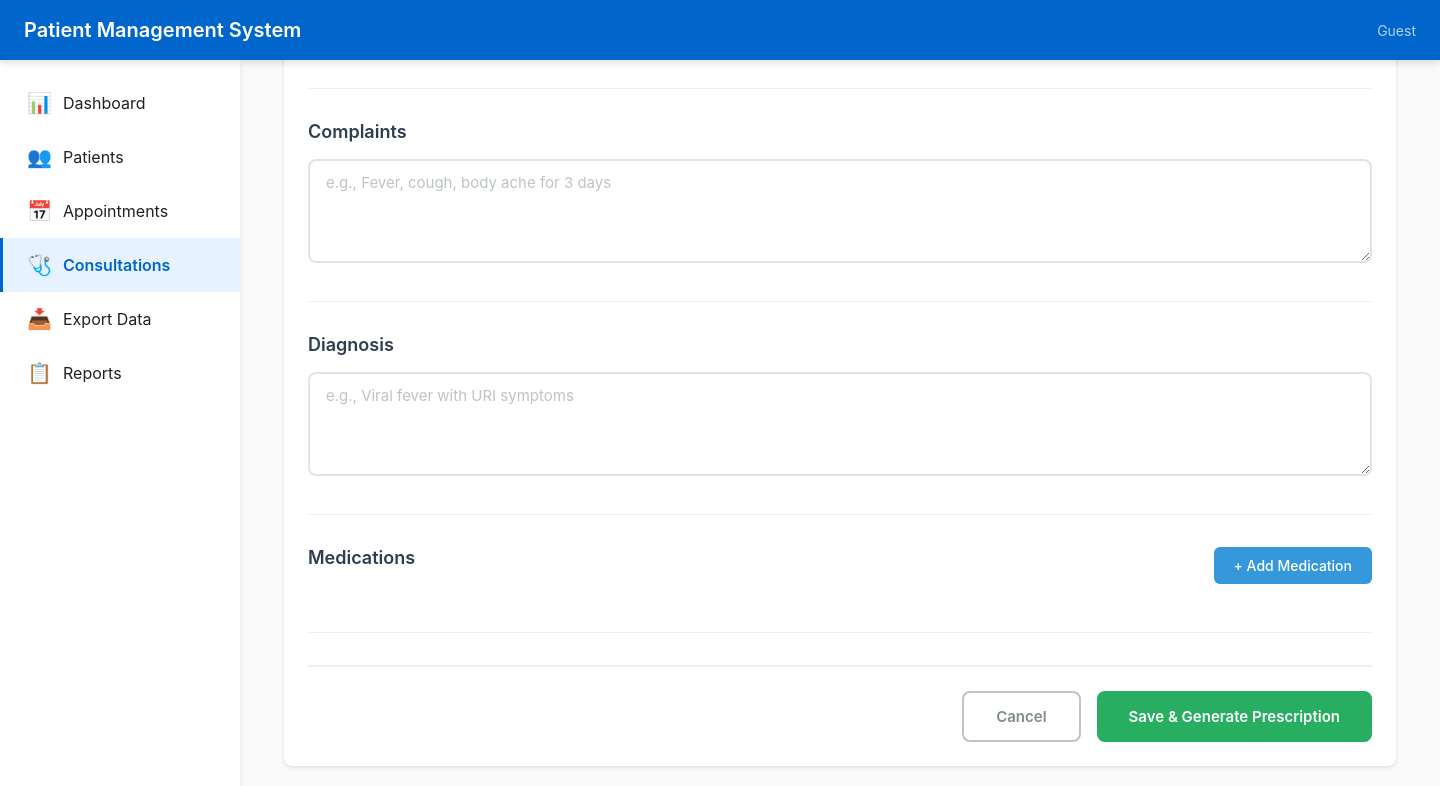
Test: ConsultationPage › should add medication to list
(page scrolled)
Note: Open medication form
Click the button "+ Add Medication": (1293, 565) [1214,547,1372,584]
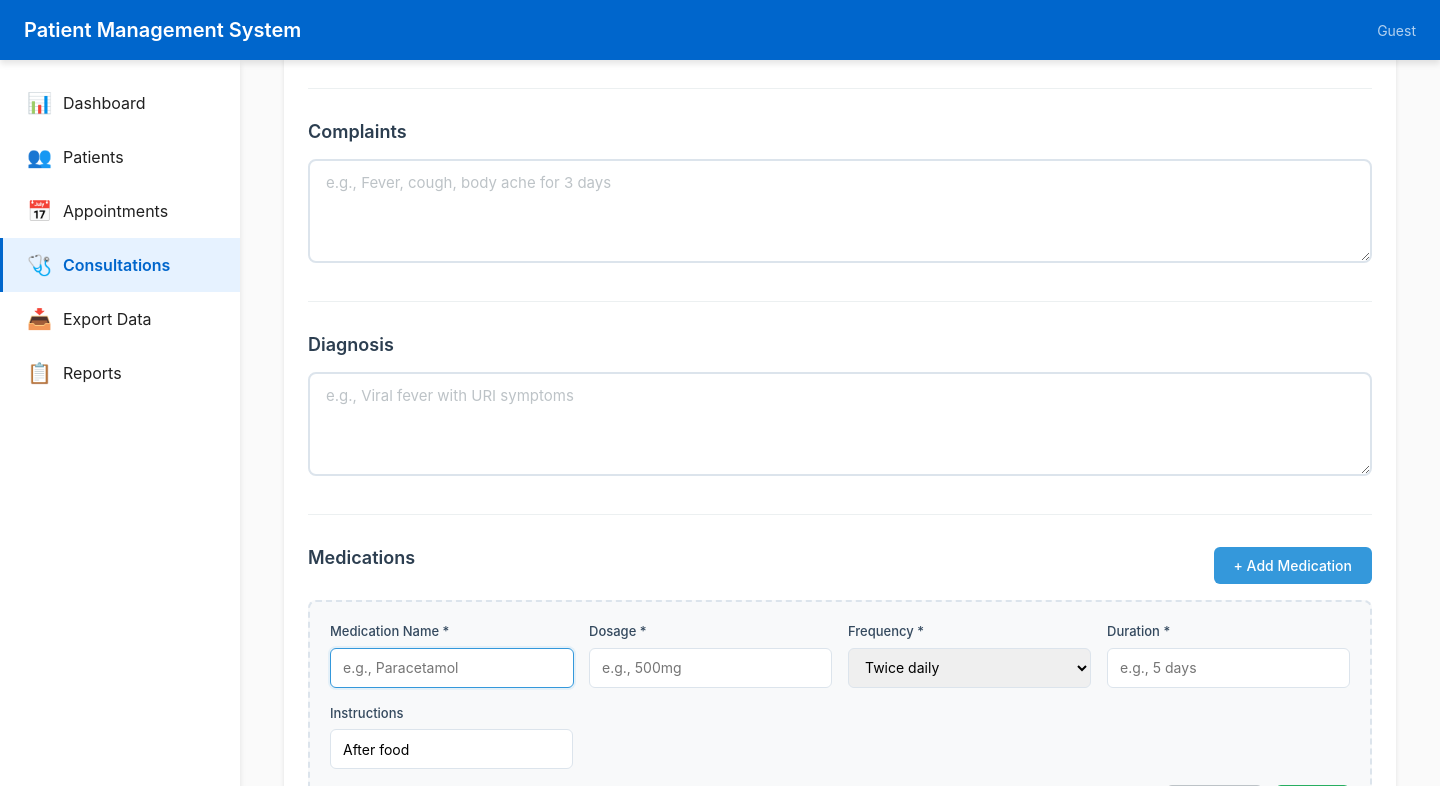
In the field with placeholder "e.g., Paracetamol": (452, 668) [330,648,574,688], type "Paracetamol"
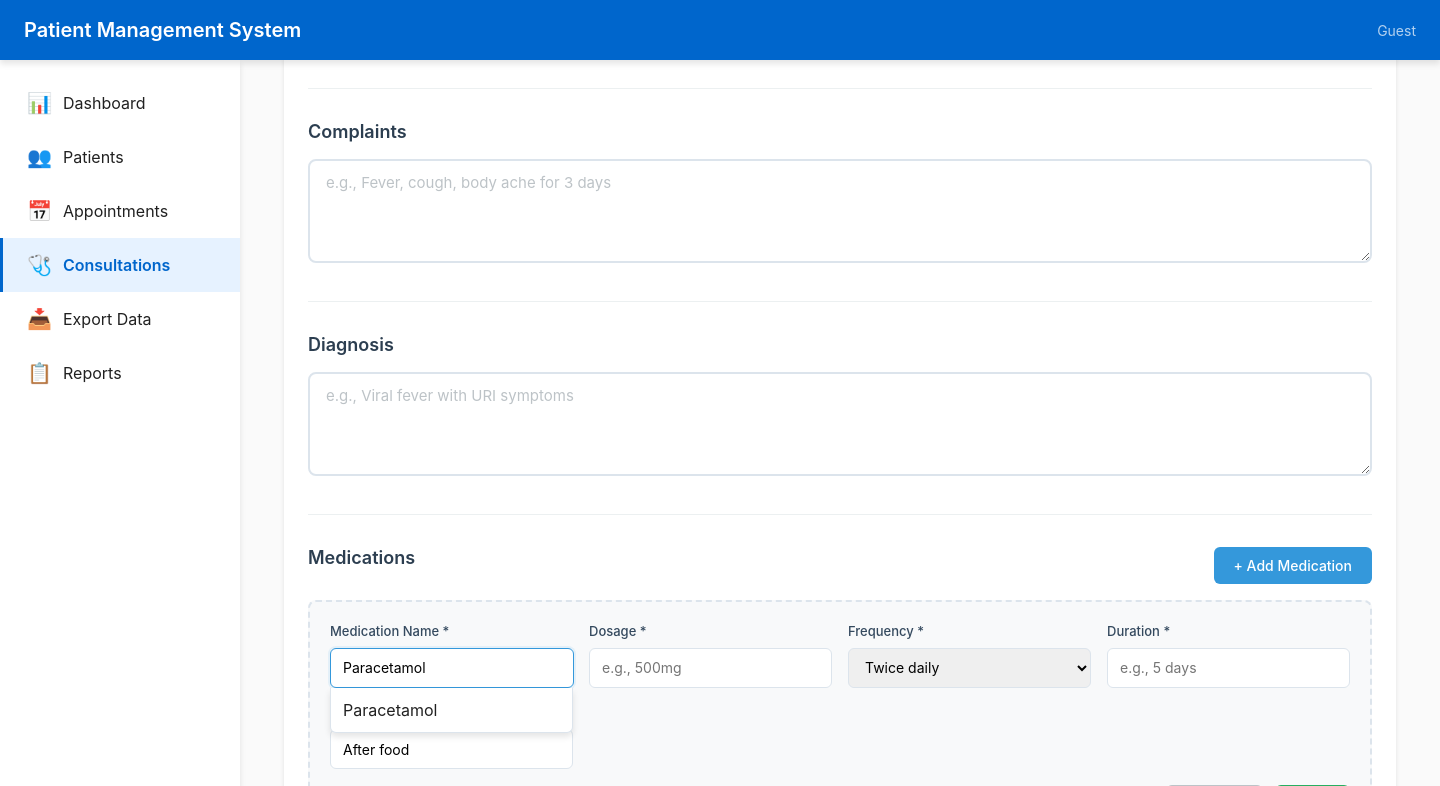
In the field with placeholder "e.g., 500mg": (710, 668) [589,648,832,688], type "500mg"
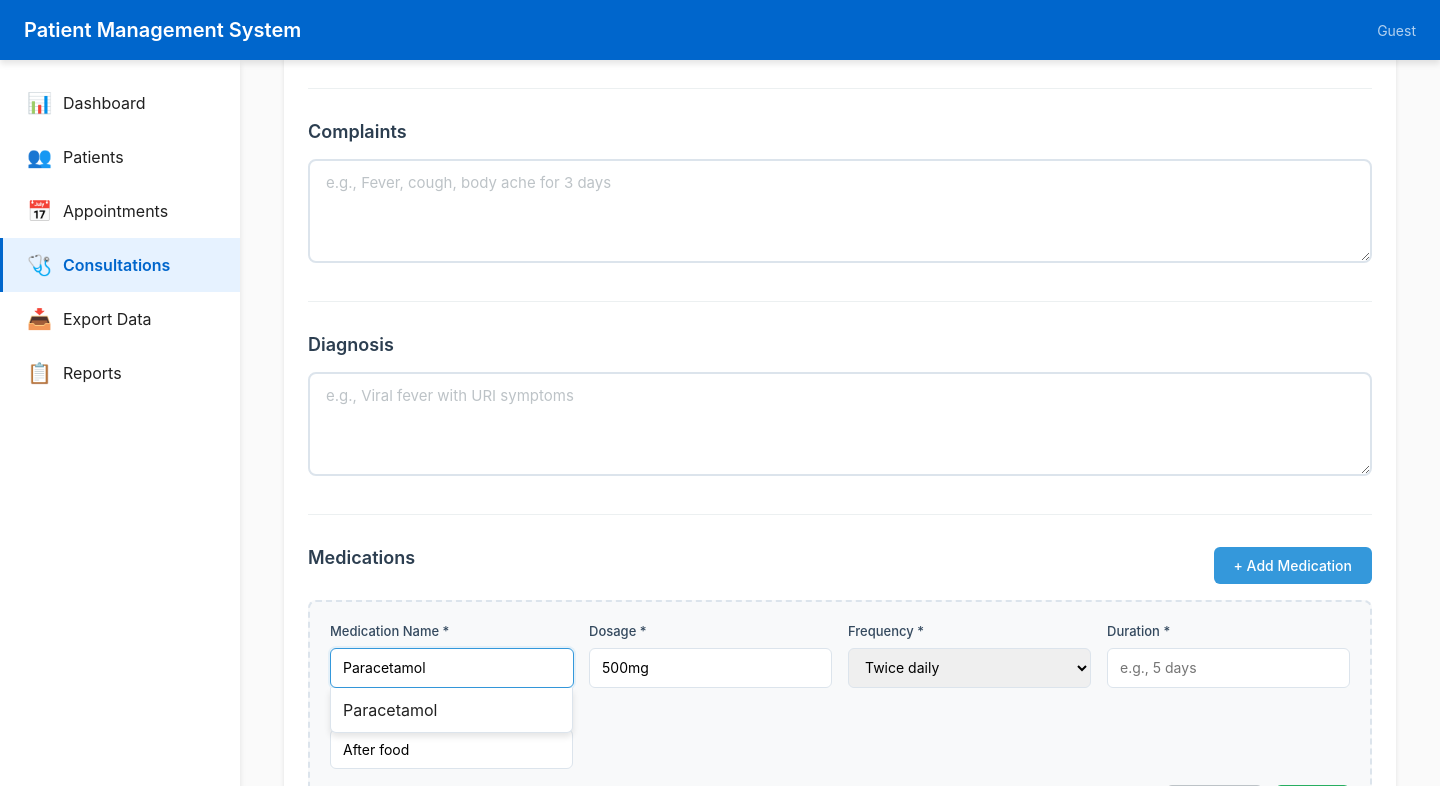
In the field with placeholder "e.g., 5 days": (1228, 668) [1107,648,1350,688], type "5 days"
(page scrolled)
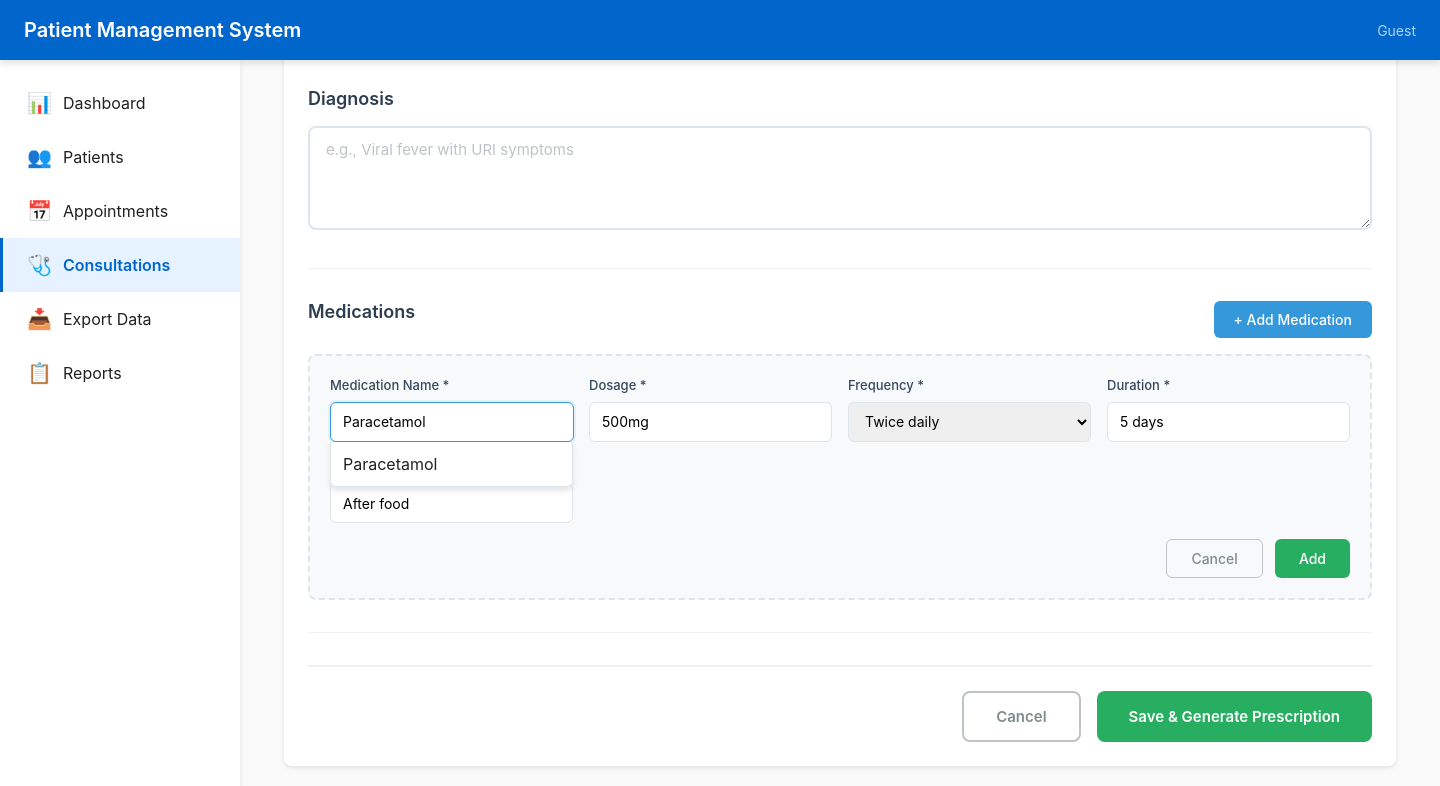
Note: Submit medication
Click the button "Add": (1312, 559) [1275,539,1350,578]
(page scrolled)
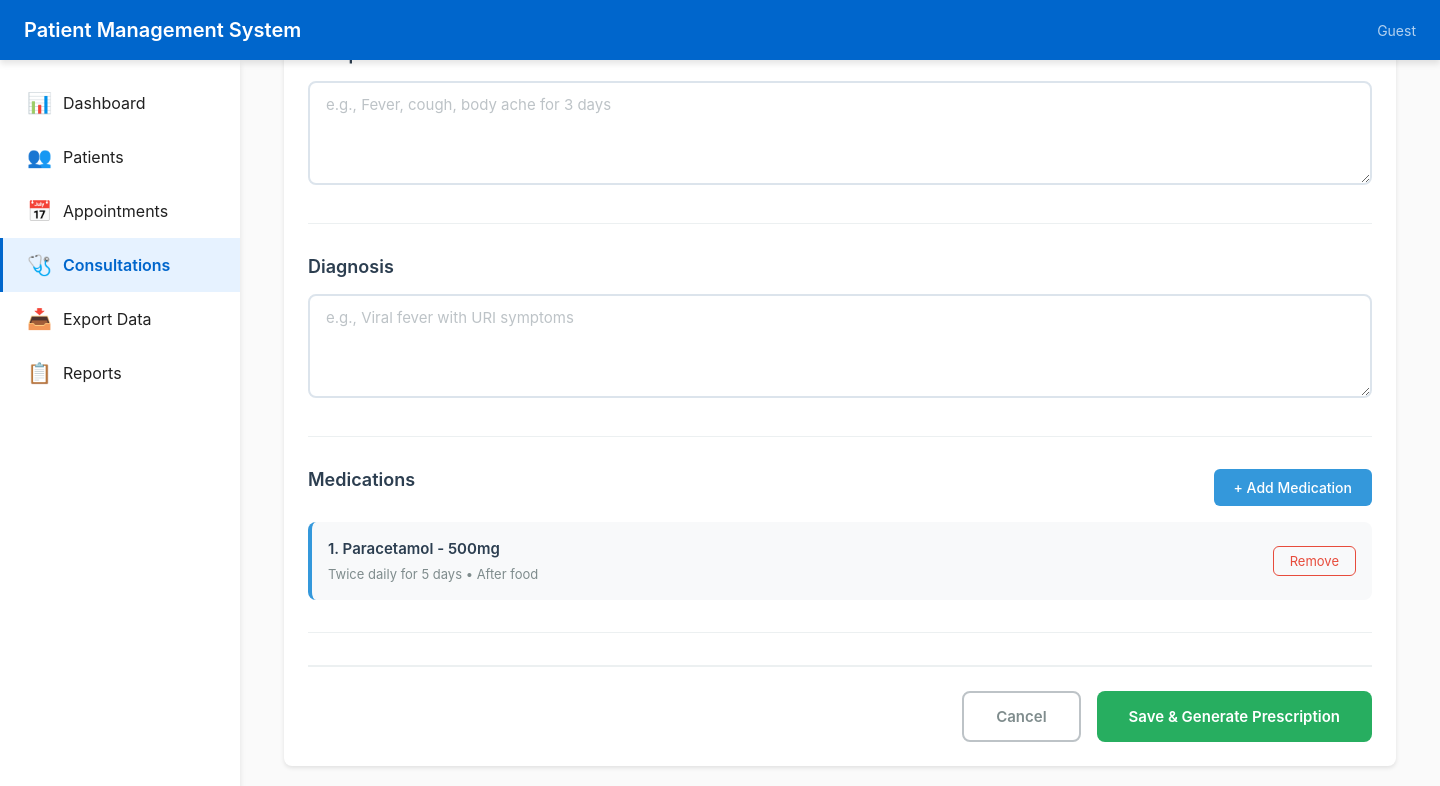
Expected: the text "1. Paracetamol - 500mg" is shown, [328,539,500,558]
